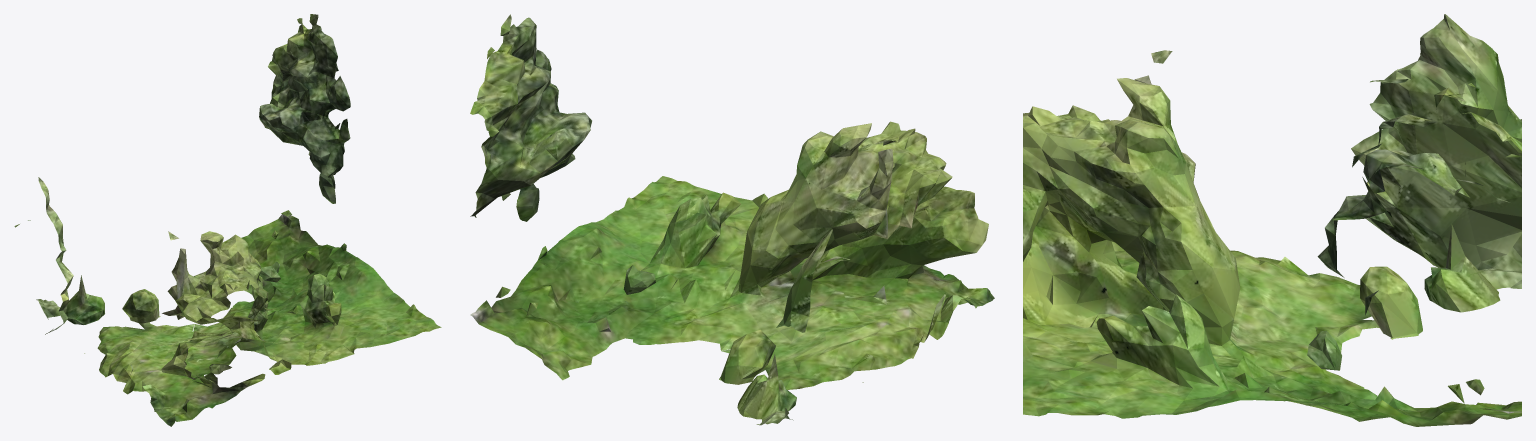
The picture shows the model from 3 angles, left to right: view 1: azimuth 30°, elevation 25°; view 2: azimuth 150°, elevation 25°; view 3: azimuth 270°, elevation 25°; orthographic projection. The views are drawn at different scales.
Bounding box in the file's own units: 26.11 × 23.53 × 26.11.
5 materials, 5 textured.
